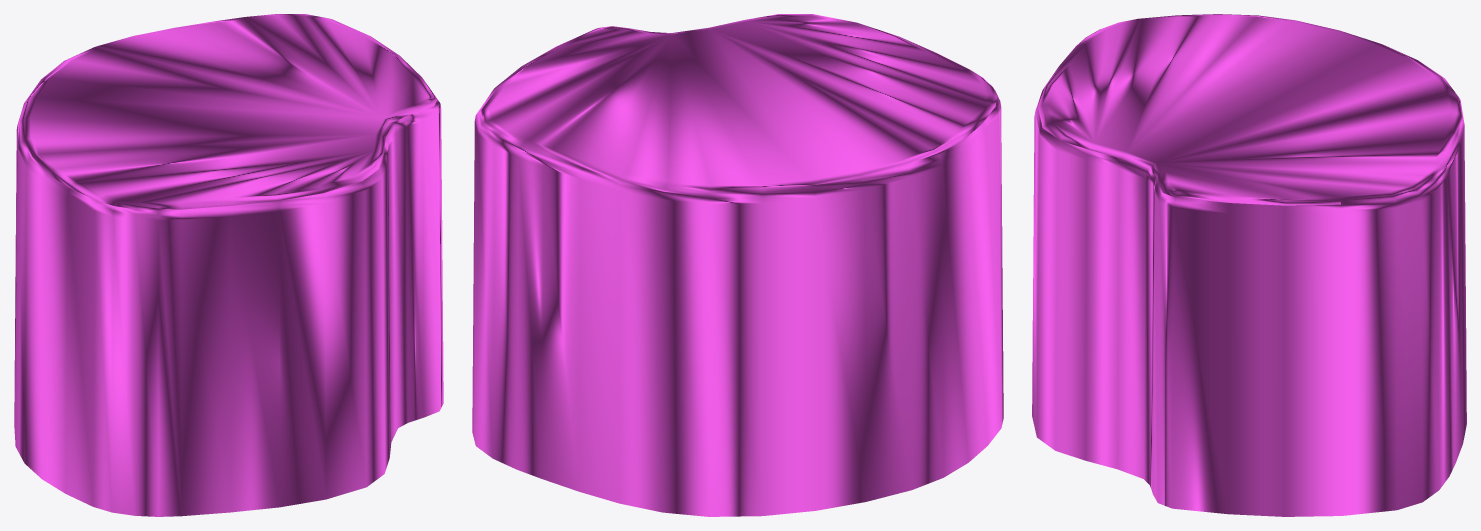
File: lorville_noflyzone_suburb_redout_18.glb
3 renders of one model, left to right at view 1: azimuth 30°, elevation 25°; view 2: azimuth 150°, elevation 25°; view 3: azimuth 270°, elevation 25°, orthographic. The views are drawn at different scales.
Bounding box in the file's own units: 2144 × 1590 × 2009.
